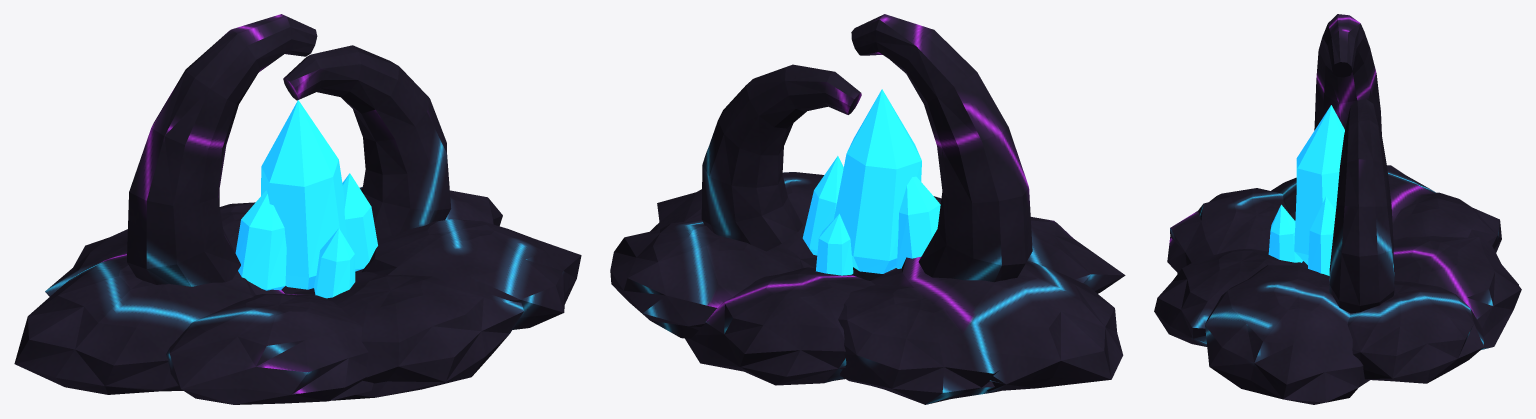
File: Anomalous_Deposit_B.fbx
3 views of the same model, side by side, from view 1: azimuth 30°, elevation 25°; view 2: azimuth 150°, elevation 25°; view 3: azimuth 270°, elevation 25° (orthographic). The views are drawn at different scales.
Parts seen in each view (by area): view 1: Anomalous_Deposit_B_LOD0; view 2: Anomalous_Deposit_B_LOD0; view 3: Anomalous_Deposit_B_LOD0.
Part boxes in pixels (<box>): Anomalous_Deposit_B_LOD0: <box>14,14,581,404</box>; Anomalous_Deposit_B_LOD0: <box>610,14,1125,404</box>; Anomalous_Deposit_B_LOD0: <box>1154,14,1521,404</box>.
Bounding box in the file's own units: 3.55 × 2.12 × 2.53.
